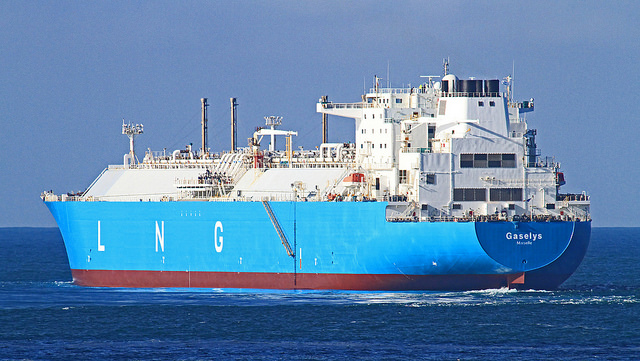LNG_ship: (40, 64, 597, 294)
